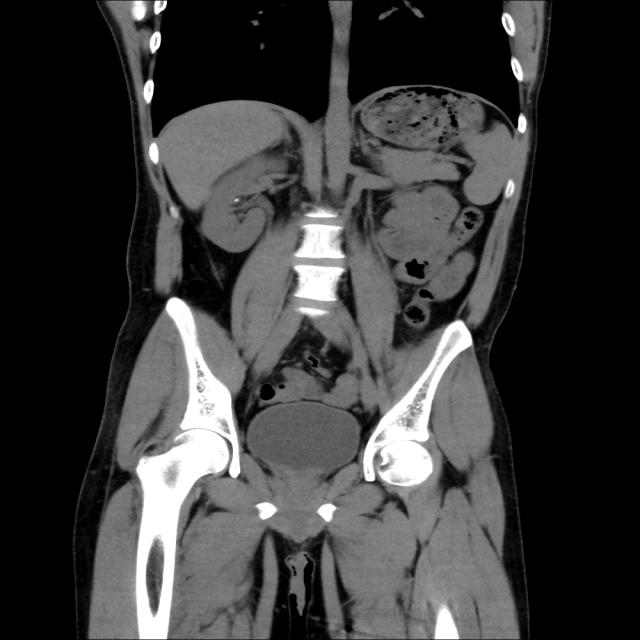kidneystone: (232, 196, 241, 204)
